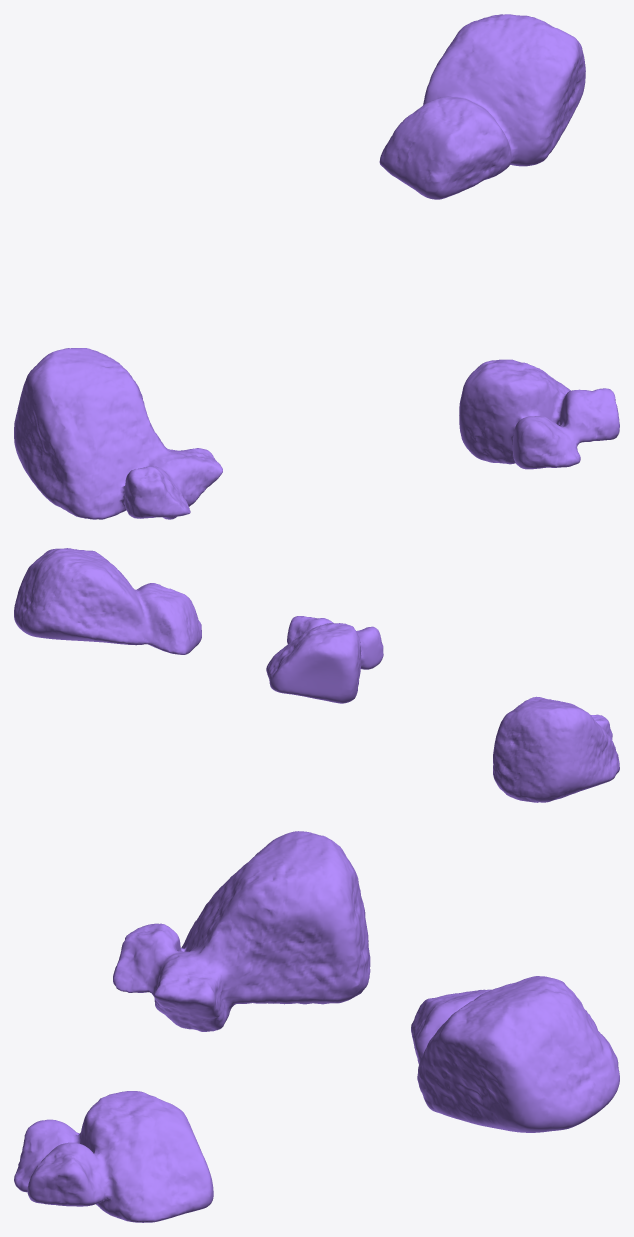
The model's file is StoneGoup2_high.fbx.
3 renders of one model, top to bottom at view 1: azimuth 30°, elevation 25°; view 2: azimuth 150°, elevation 25°; view 3: azimuth 270°, elevation 25°, orthographic. The views are drawn at different scales.
Visible parts, largest first — view 1: StoneGoup2_high; view 2: StoneGoup2_high; view 3: StoneGoup2_high.
Boxes of the visible parts, x1,y1,x2,y2 form: StoneGoup2_high: [14, 14, 619, 519]; StoneGoup2_high: [14, 548, 619, 802]; StoneGoup2_high: [14, 831, 619, 1222].
Size of the model in its own units: 2.04 by 0.8014 by 1.4.
